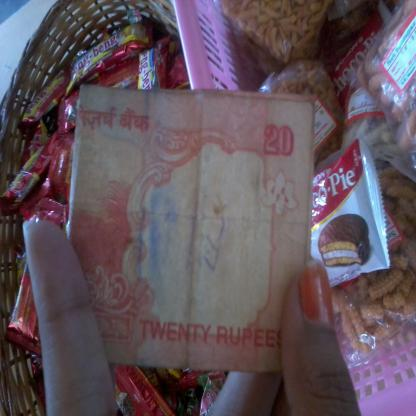Old20Back: (75, 88, 297, 372)
